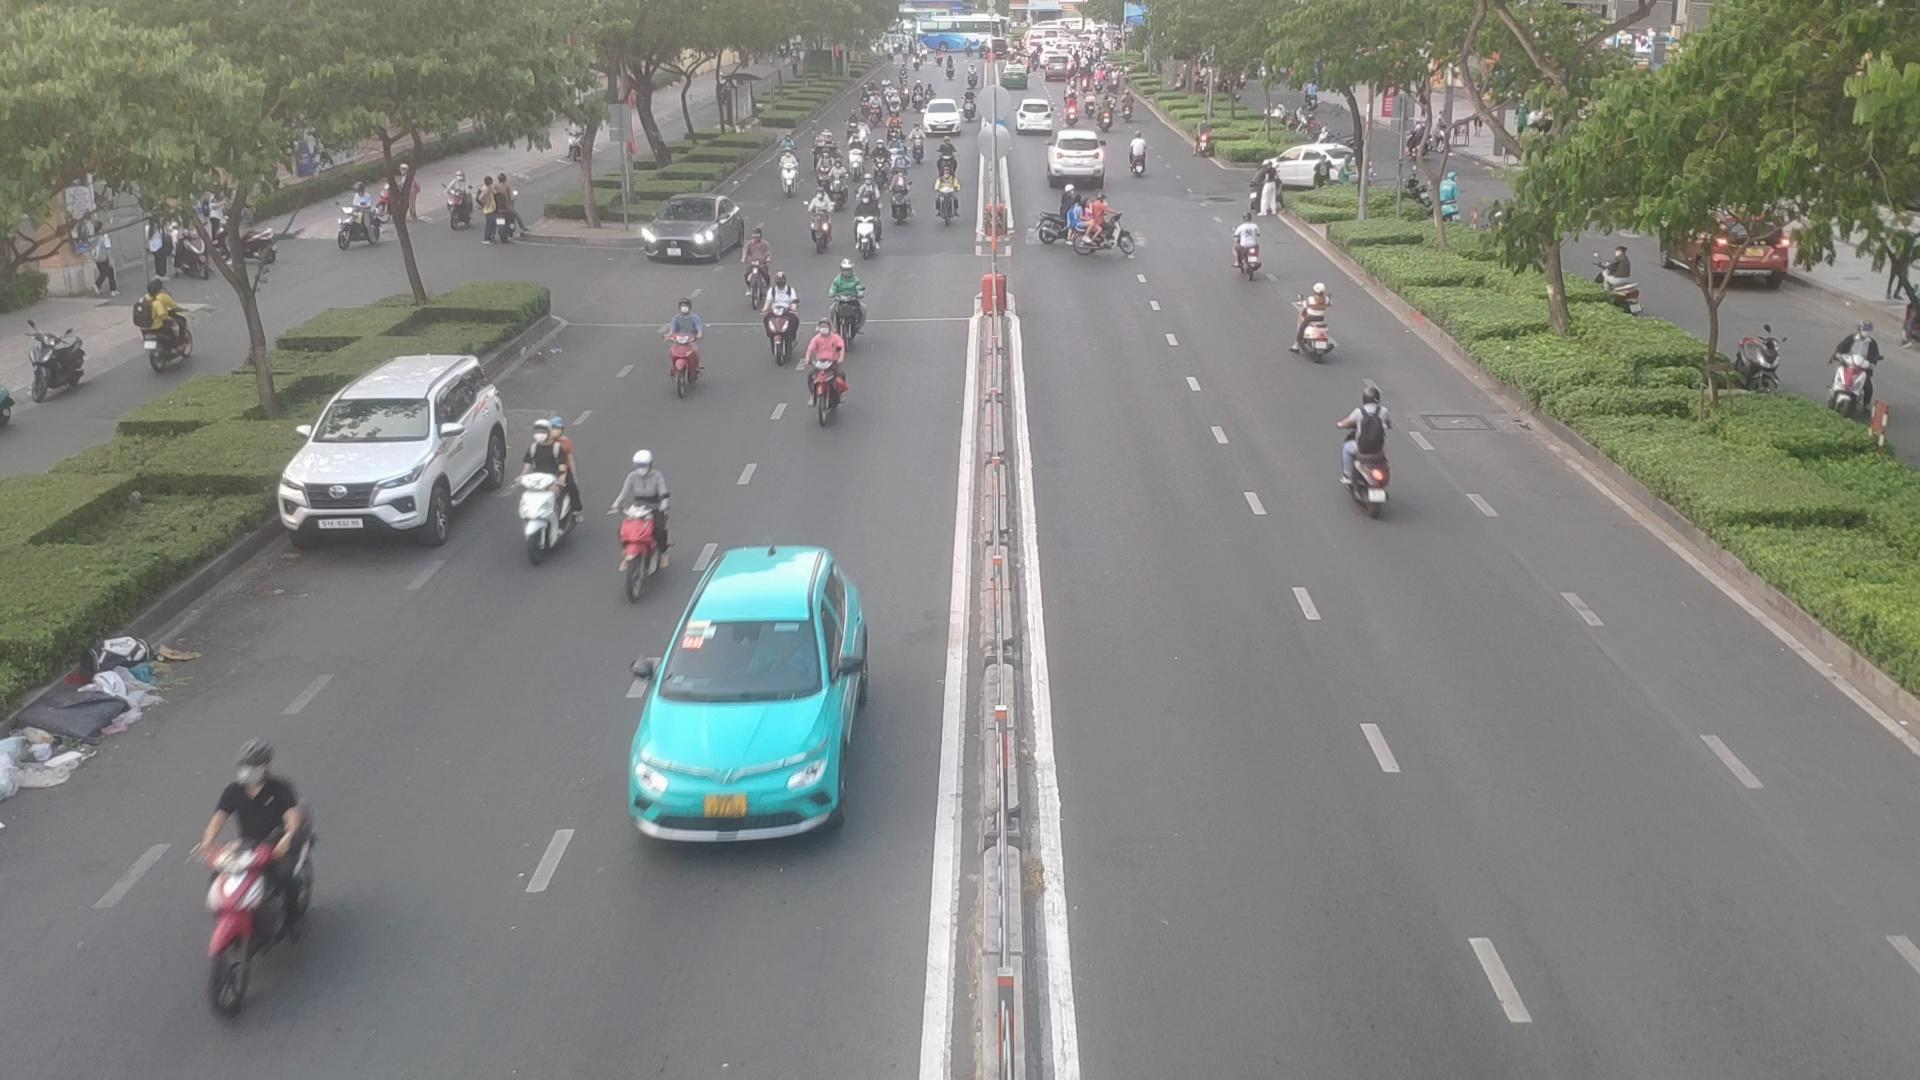car: (622, 547, 866, 845), (270, 349, 517, 545), (638, 198, 749, 266), (1261, 142, 1366, 193), (1046, 135, 1105, 182)
motorbike: (198, 723, 313, 1021), (520, 409, 578, 582), (1342, 398, 1398, 542), (618, 455, 666, 592), (1068, 189, 1143, 255), (670, 298, 715, 396), (803, 327, 847, 419), (1288, 281, 1335, 364), (1222, 214, 1269, 278), (738, 228, 767, 313), (835, 257, 864, 338), (766, 272, 793, 353), (853, 193, 874, 256), (808, 186, 827, 251), (891, 175, 913, 223), (782, 152, 802, 196), (873, 138, 887, 191), (936, 142, 956, 178), (938, 175, 951, 228), (1129, 135, 1145, 178), (909, 125, 927, 160), (829, 160, 843, 204), (851, 138, 860, 179), (819, 150, 829, 186)
